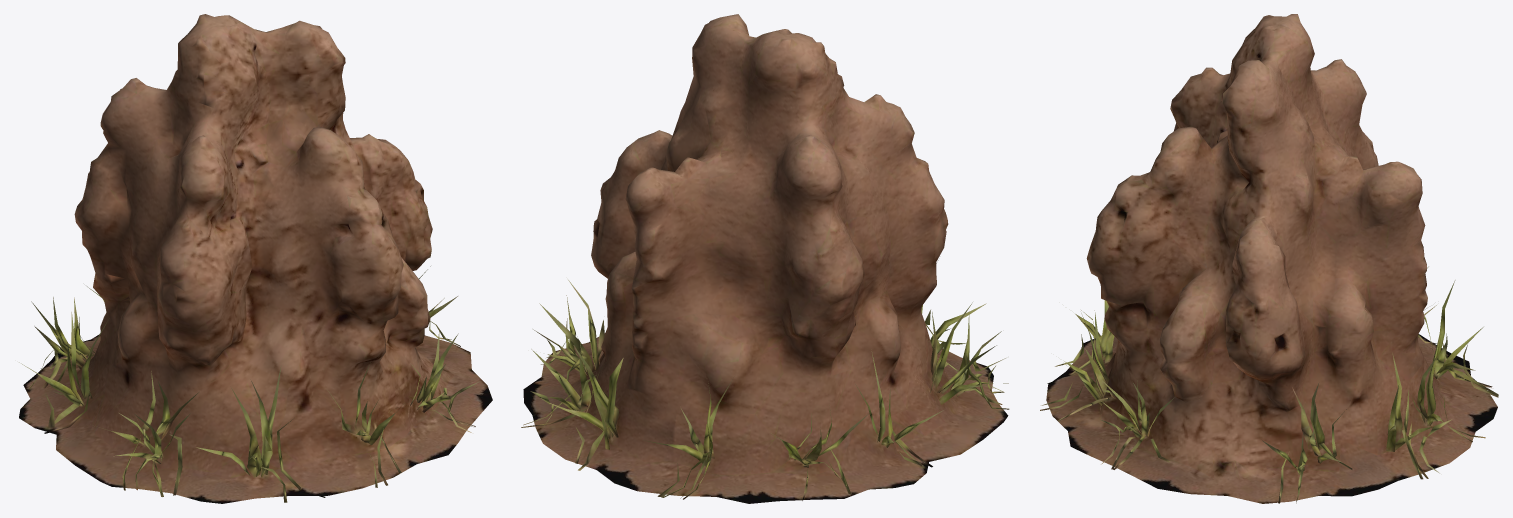
File: javaporcos_mint_cupinzeiro.glb
The picture shows the model from 3 angles, left to right: view 1: azimuth 30°, elevation 25°; view 2: azimuth 150°, elevation 25°; view 3: azimuth 270°, elevation 25°; orthographic projection. The views are drawn at different scales.
Parts seen in each view (by area): view 1: Cupinzeiro de pasto; view 2: Cupinzeiro de pasto; view 3: Cupinzeiro de pasto.
Boxes of the visible parts, x1,y1,x2,y2 form: Cupinzeiro de pasto: (19,14,492,503); Cupinzeiro de pasto: (521,14,1009,503); Cupinzeiro de pasto: (1040,14,1498,503).
Size of the model in its own units: 1.79 by 1.6 by 1.79.
1 material, 1 textured.
